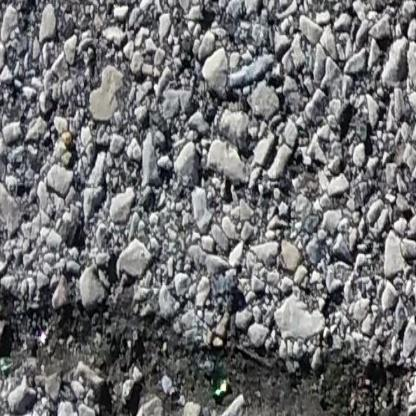Cracks: (0, 263, 416, 416)
